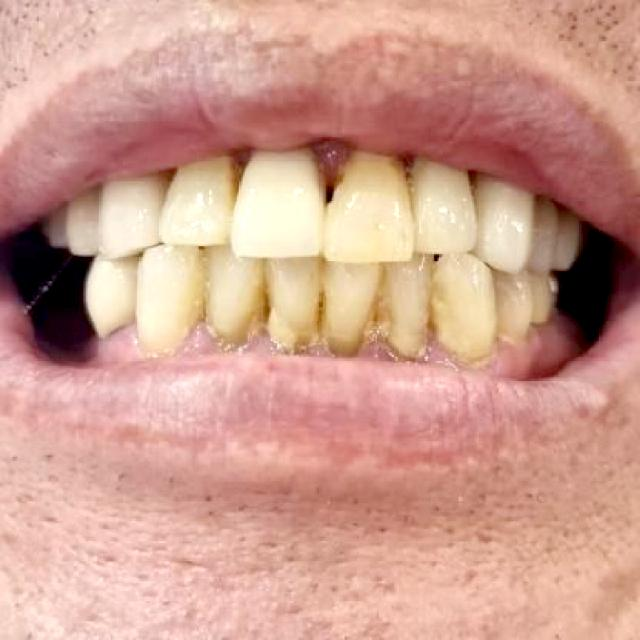Plaque: (180, 314, 421, 368)
